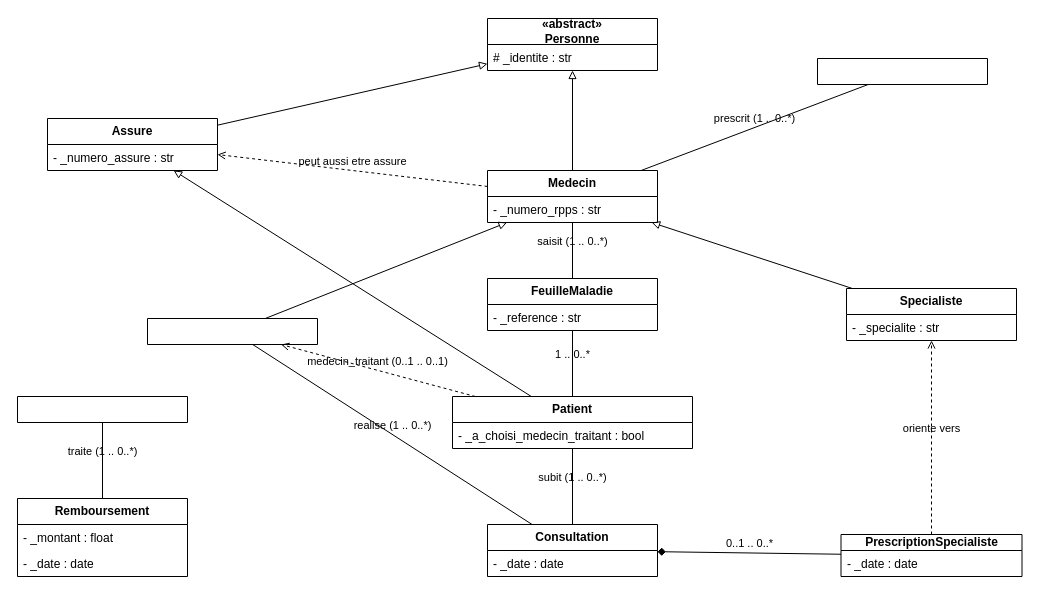
The diagram is 1040 pixels wide and 597 high, and some of its shapes have lost their labels. The shapes that lost their labels are listed below. From the top down, each one's centre as x and y in pixels, then its label:
At [902,71]: "OrdonnanceMedicament".
At [232,331]: "Generaliste".
At [102,409]: "OrganismeSS".
